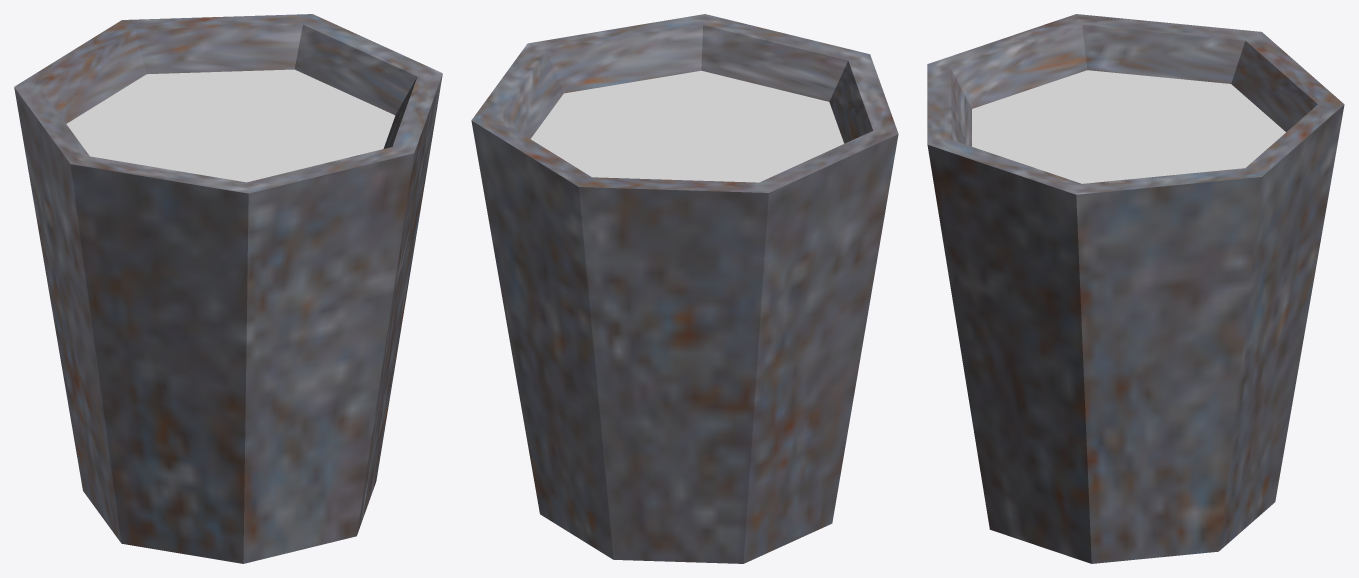
The model's file is bucket_of_butter.fbx.
3 views of the same model, side by side, from view 1: azimuth 30°, elevation 25°; view 2: azimuth 150°, elevation 25°; view 3: azimuth 270°, elevation 25° (orthographic).
Parts seen in each view (by area): view 1: Bucket of Butter; view 2: Bucket of Butter; view 3: Bucket of Butter.
Part boxes in pixels (<box>): Bucket of Butter: <box>14,14,442,563</box>; Bucket of Butter: <box>471,14,898,563</box>; Bucket of Butter: <box>927,14,1344,563</box>.
Bounding box in the file's own units: 195 × 200 × 190.
Materials: 2 (1 with a texture image).
